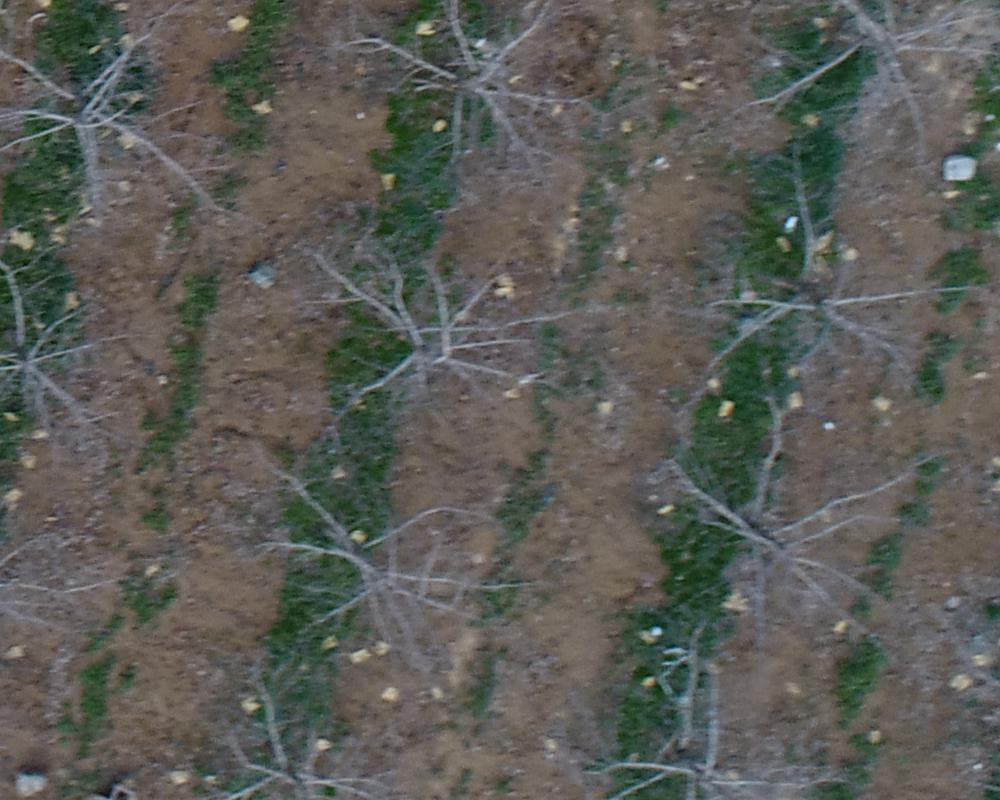apple: (609, 371, 950, 666), (646, 132, 980, 414), (209, 463, 557, 689), (270, 209, 598, 434), (10, 10, 257, 241), (564, 609, 873, 790), (336, 10, 629, 177), (10, 439, 152, 686), (168, 666, 445, 790), (10, 214, 145, 446)
